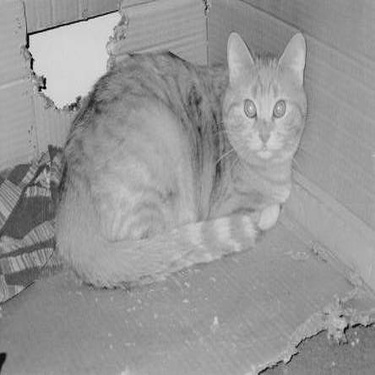cat: (59, 28, 307, 288)
